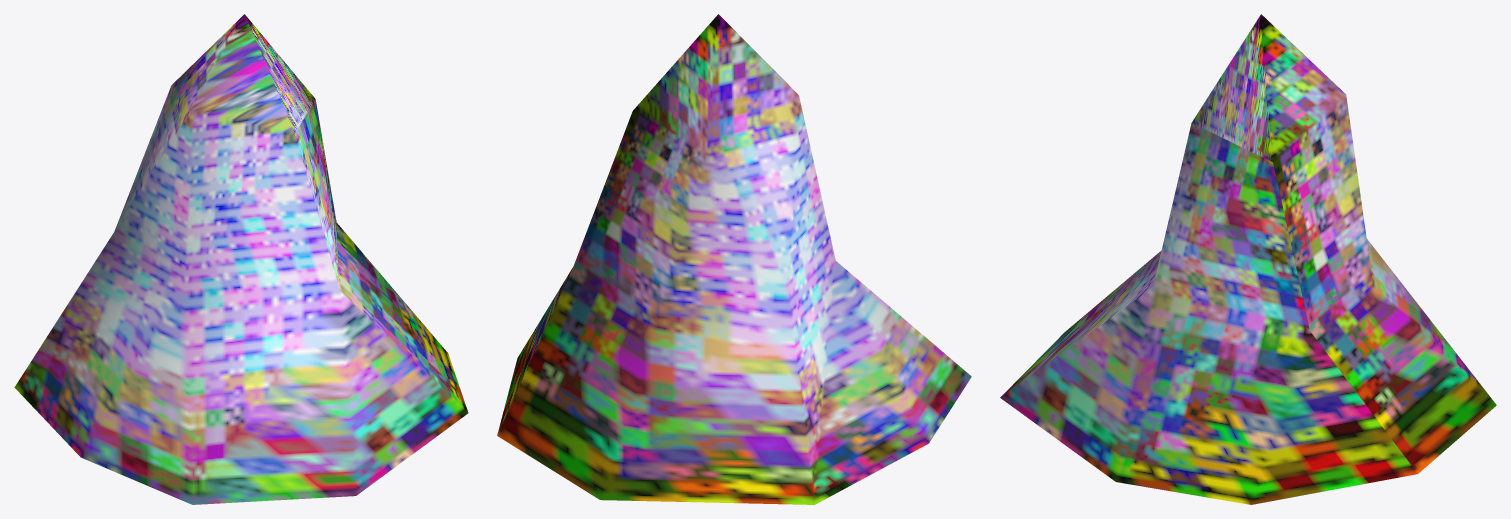
File: ice_block_base.glb
3 views of the same model, side by side, from view 1: azimuth 30°, elevation 25°; view 2: azimuth 150°, elevation 25°; view 3: azimuth 270°, elevation 25° (orthographic). The views are drawn at different scales.
Visible parts, largest first — view 1: MeshRoot; view 2: MeshRoot; view 3: MeshRoot.
Part boxes in pixels (x1,y1,x2,y2): MeshRoot: [14, 14, 468, 504]; MeshRoot: [497, 14, 971, 504]; MeshRoot: [1000, 14, 1496, 504].
Size of the model in its own units: 1.36 by 1.31 by 1.5.
1 material, 1 textured.
